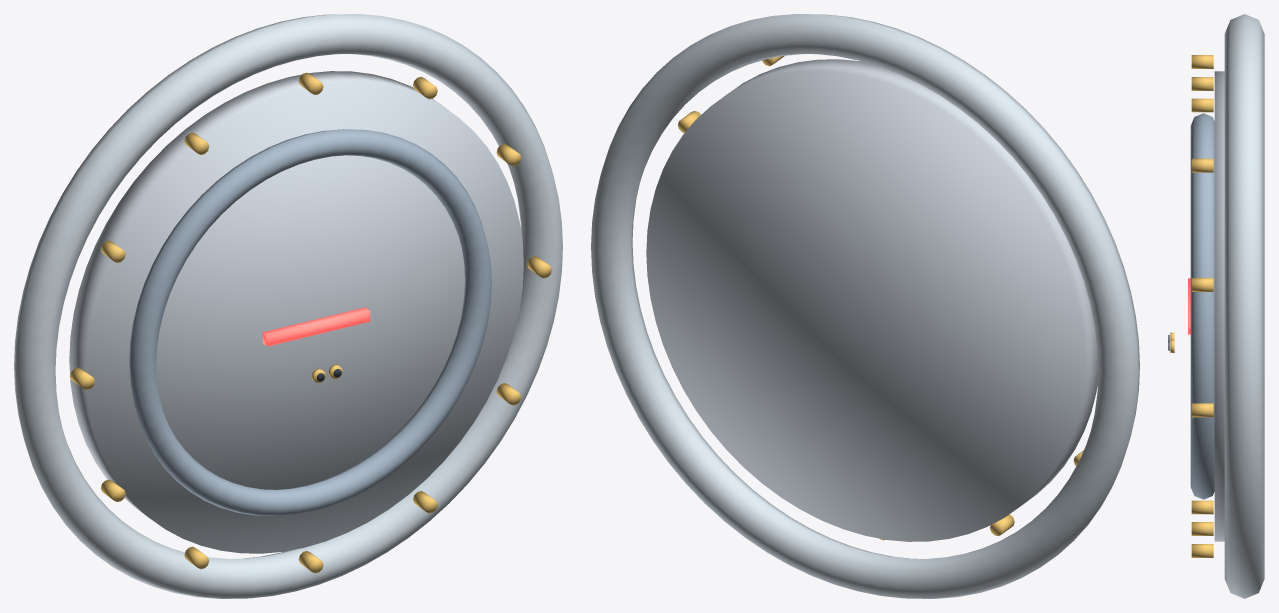
The model's file is 04_L89_ShelterEntranceShieldedBulkhead.glb.
The picture shows the model from 3 angles, left to right: view 1: azimuth 30°, elevation 25°; view 2: azimuth 150°, elevation 25°; view 3: azimuth 270°, elevation 25°; orthographic projection. The views are drawn at different scales.
Visible parts, largest first — view 1: L87_ShelterEntranceShieldedBu_Part_0001, L87_ShelterEntranceShieldedBu_Part_0000, L87_ShelterEntranceShieldedBu_Part_0002, L87_ShelterEntranceShieldedBu_Part_0003, L87_ShelterEntranceShieldedBu_Part_0004; view 2: L87_ShelterEntranceShieldedBu_Part_0001, L87_ShelterEntranceShieldedBu_Part_0000, L87_ShelterEntranceShieldedBu_Part_0003; view 3: L87_ShelterEntranceShieldedBu_Part_0000, L87_ShelterEntranceShieldedBu_Part_0002, L87_ShelterEntranceShieldedBu_Part_0001, L87_ShelterEntranceShieldedBu_Part_0003, L87_ShelterEntranceShieldedBu_Part_0004.
Boxes of the visible parts, bbox=[...] form: L87_ShelterEntranceShieldedBu_Part_0001: bbox=[69, 71, 523, 553]; L87_ShelterEntranceShieldedBu_Part_0000: bbox=[14, 14, 562, 598]; L87_ShelterEntranceShieldedBu_Part_0002: bbox=[129, 129, 491, 515]; L87_ShelterEntranceShieldedBu_Part_0003: bbox=[70, 72, 551, 573]; L87_ShelterEntranceShieldedBu_Part_0004: bbox=[262, 307, 370, 346]; L87_ShelterEntranceShieldedBu_Part_0001: bbox=[646, 59, 1098, 541]; L87_ShelterEntranceShieldedBu_Part_0000: bbox=[591, 14, 1139, 598]; L87_ShelterEntranceShieldedBu_Part_0003: bbox=[678, 56, 1083, 540]; L87_ShelterEntranceShieldedBu_Part_0000: bbox=[1224, 14, 1264, 598]; L87_ShelterEntranceShieldedBu_Part_0002: bbox=[1190, 113, 1214, 499]; L87_ShelterEntranceShieldedBu_Part_0001: bbox=[1214, 71, 1224, 541]; L87_ShelterEntranceShieldedBu_Part_0003: bbox=[1191, 55, 1213, 557]; L87_ShelterEntranceShieldedBu_Part_0004: bbox=[1188, 278, 1190, 334].
Bounding box in the file's own units: 5.84 × 5.84 × 0.962.
